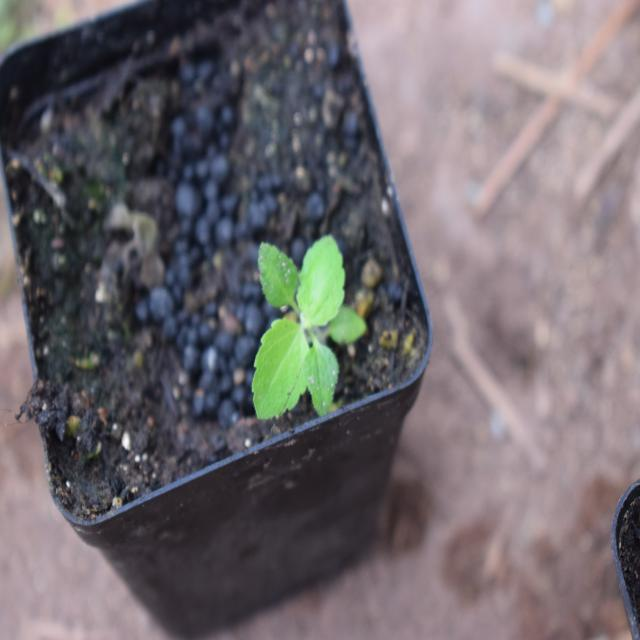billygoat_weed: (232, 230, 378, 421)
